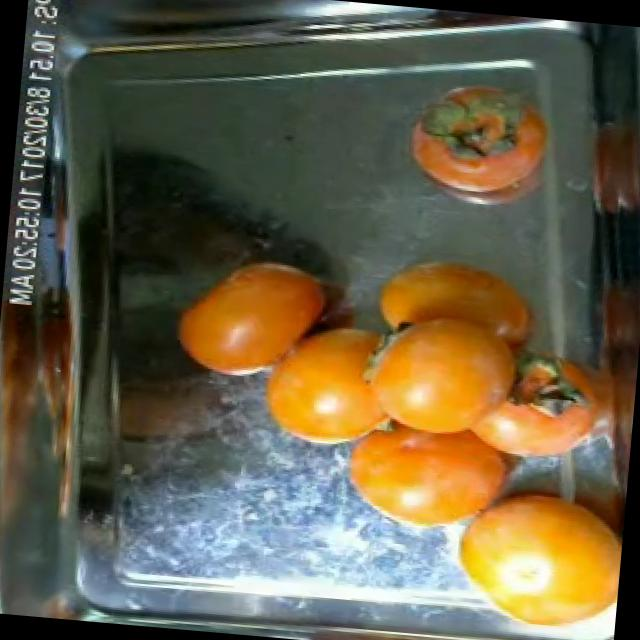Fruit: (430, 462, 627, 638), (156, 234, 346, 396), (322, 402, 520, 552), (386, 78, 568, 228), (245, 303, 412, 452), (91, 347, 252, 468)
